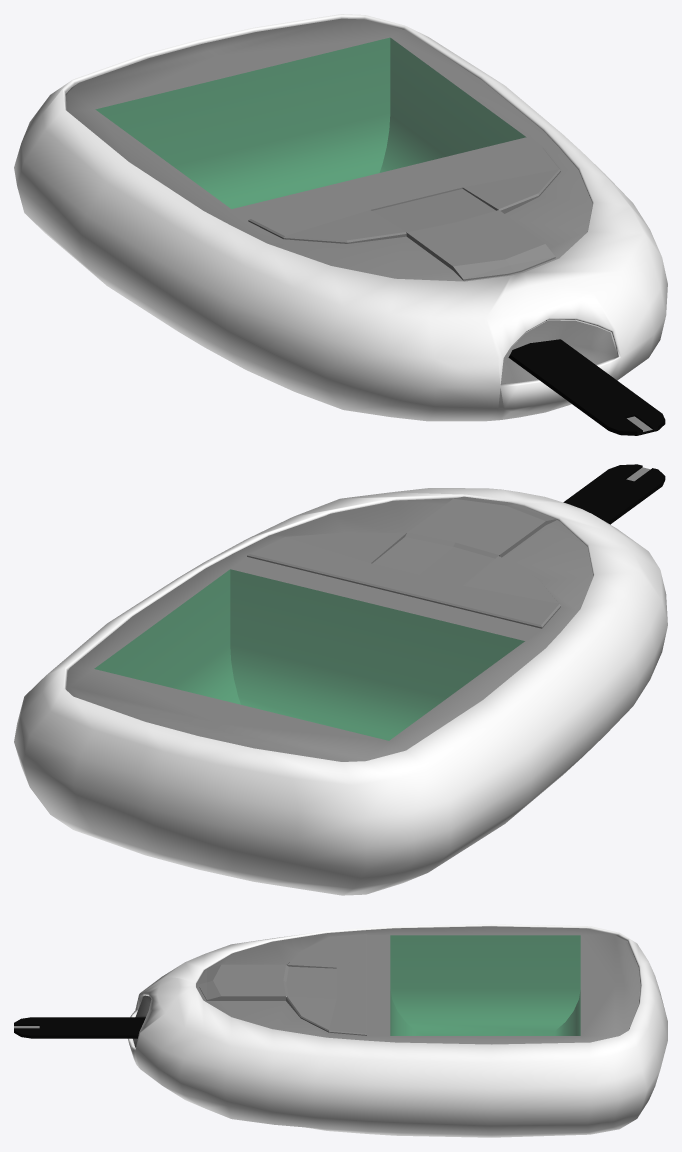
The model's file is tamagotchi_2.glb.
3 views of the same model, one above another, from view 1: azimuth 30°, elevation 25°; view 2: azimuth 150°, elevation 25°; view 3: azimuth 270°, elevation 25° (orthographic). The views are drawn at different scales.
Visible parts, largest first — view 1: cover, screenbox, screen, device, button.center, Plane, button.left, button.right; view 2: cover, screenbox, screen, device, button.center, button.left, button.right, Plane; view 3: cover, screenbox, screen, device, button.center, button.right, Plane, button.left.
Boxes of the visible parts, x1,y1,x2,y2 form: cover: (14,14,667,421); screenbox: (95,37,526,208); screen: (96,38,524,208); device: (65,18,617,384); button.center: (371,187,555,280); Plane: (508,339,665,435); button.left: (248,183,415,243); button.right: (396,147,560,213); cover: (14,488,667,895); screenbox: (94,569,524,740); screen: (95,569,524,740); device: (66,498,593,761); button.center: (371,496,556,585); button.left: (395,556,560,628); button.right: (247,532,416,592); Plane: (499,464,665,555); cover: (128,924,667,1137); screenbox: (390,935,580,1035); screen: (390,935,580,1035); device: (133,926,640,1047); button.center: (199,964,336,1000); button.right: (286,983,366,1035); Plane: (14,1017,145,1038); button.left: (287,934,366,983).
Size of the model in its own units: 3.43 by 1.01 by 6.16.
